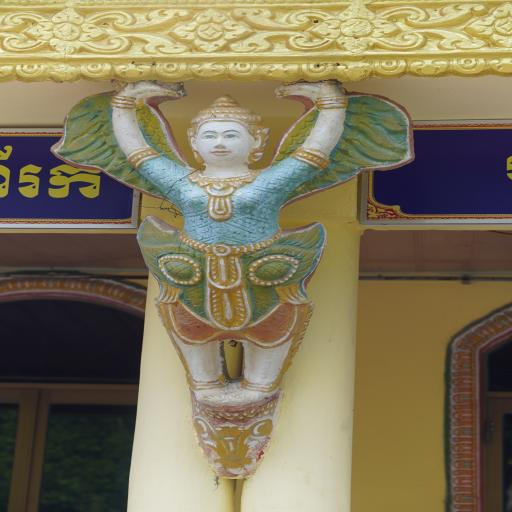hoa: (26, 6, 111, 57), (167, 7, 259, 54), (315, 5, 397, 51), (468, 4, 512, 48)
la: (404, 3, 484, 28), (398, 28, 486, 50), (115, 31, 191, 54), (114, 10, 191, 32), (235, 6, 307, 28), (236, 30, 307, 50), (85, 36, 134, 55), (2, 33, 46, 53), (88, 9, 136, 27), (4, 10, 50, 28)
than: (36, 76, 428, 512)
